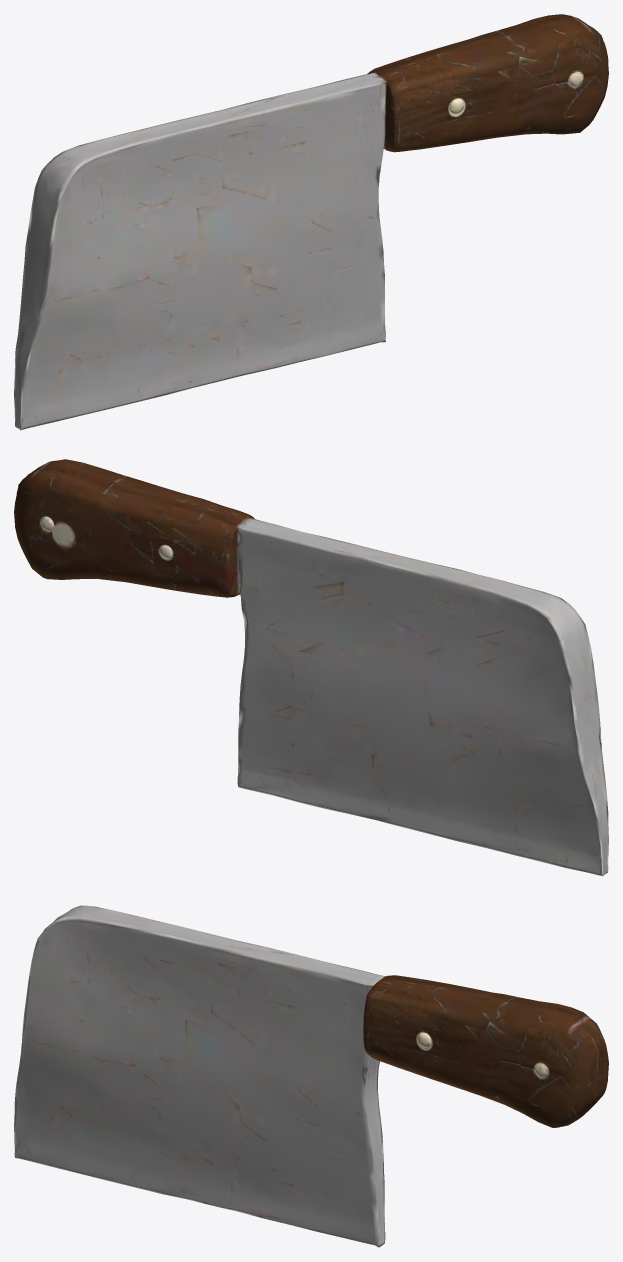
Rendered from knife.glb.
3 views of the same model, one above another, from view 1: azimuth 30°, elevation 25°; view 2: azimuth 150°, elevation 25°; view 3: azimuth 330°, elevation 25° (orthographic).
Parts seen in each view (by area): view 1: Mesh_0; view 2: Mesh_0; view 3: Mesh_0.
Boxes of the visible parts, x1,y1,x2,y2 form: Mesh_0: (14,14,608,430); Mesh_0: (14,459,608,876); Mesh_0: (14,905,608,1247).
Bounding box in the file's own units: 0.2206 × 0.1 × 0.0244.
1 material, 1 textured.
